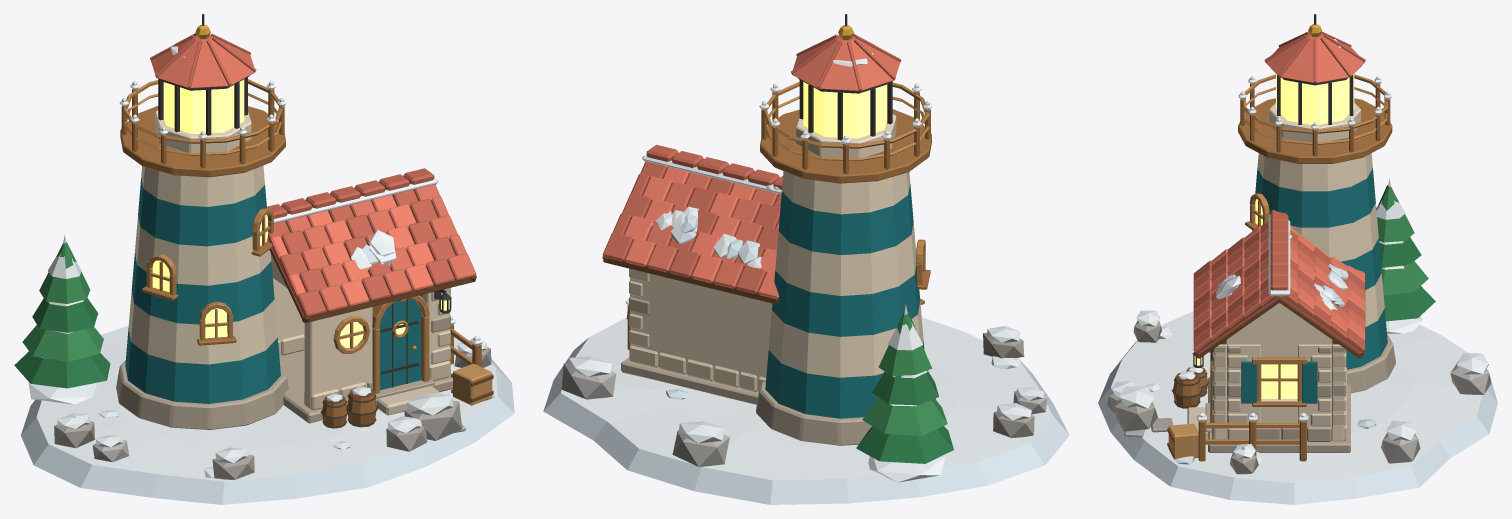
File: lighthouse_loft_exterior.glb
3 renders of one model, left to right at view 1: azimuth 30°, elevation 25°; view 2: azimuth 150°, elevation 25°; view 3: azimuth 270°, elevation 25°, orthographic. The views are drawn at different scales.
Visible parts, largest first — view 1: lighthouse_loft_exterior, lighthouse_loft_exterior_roof; view 2: lighthouse_loft_exterior, lighthouse_loft_exterior_roof; view 3: lighthouse_loft_exterior, lighthouse_loft_exterior_roof.
Part boxes in pixels (<box>): lighthouse_loft_exterior: <box>14,79,514,504</box>; lighthouse_loft_exterior_roof: <box>150,14,476,322</box>; lighthouse_loft_exterior: <box>543,81,1069,504</box>; lighthouse_loft_exterior_roof: <box>602,14,901,304</box>; lighthouse_loft_exterior: <box>1098,74,1497,504</box>; lighthouse_loft_exterior_roof: <box>1193,14,1365,358</box>.
Size of the model in its own units: 8.13 by 6.81 by 6.72.
